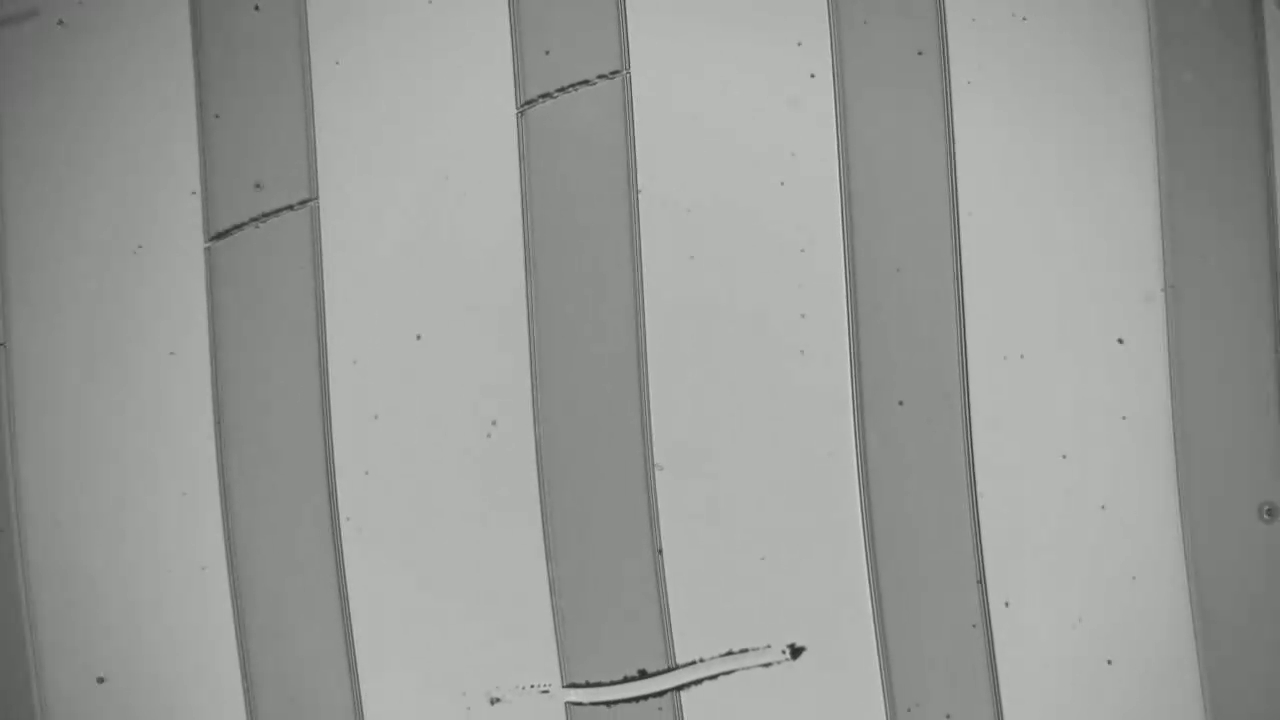Short_circuit: (536, 658, 714, 706), (214, 197, 300, 247), (528, 67, 614, 112)
